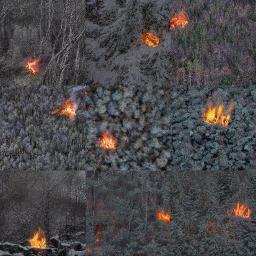Small fire: (201, 96, 230, 127), (22, 226, 52, 250), (138, 26, 162, 55), (164, 3, 192, 25), (50, 96, 75, 120), (97, 127, 118, 152), (231, 198, 253, 221), (154, 202, 173, 224), (23, 56, 38, 75)
